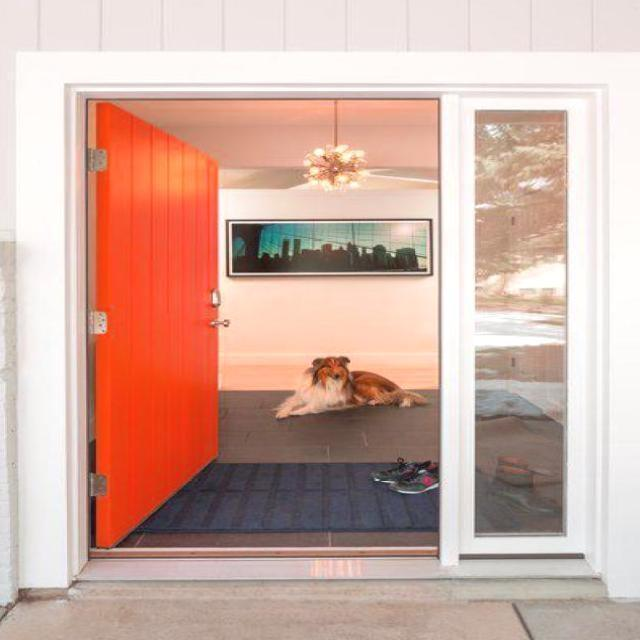door: (86, 99, 221, 549)
